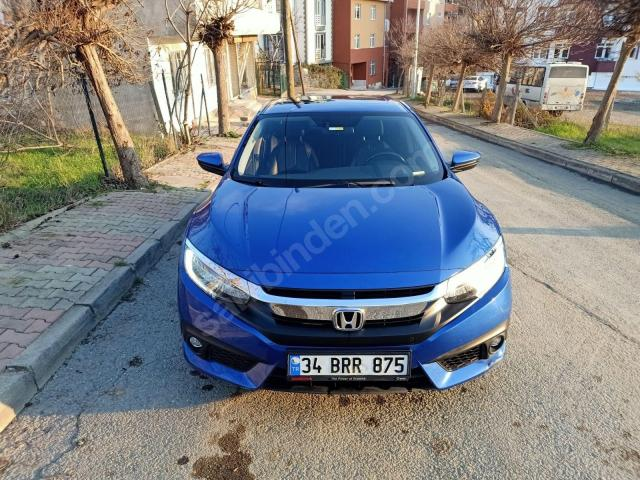plaka: (288, 353, 409, 380)
